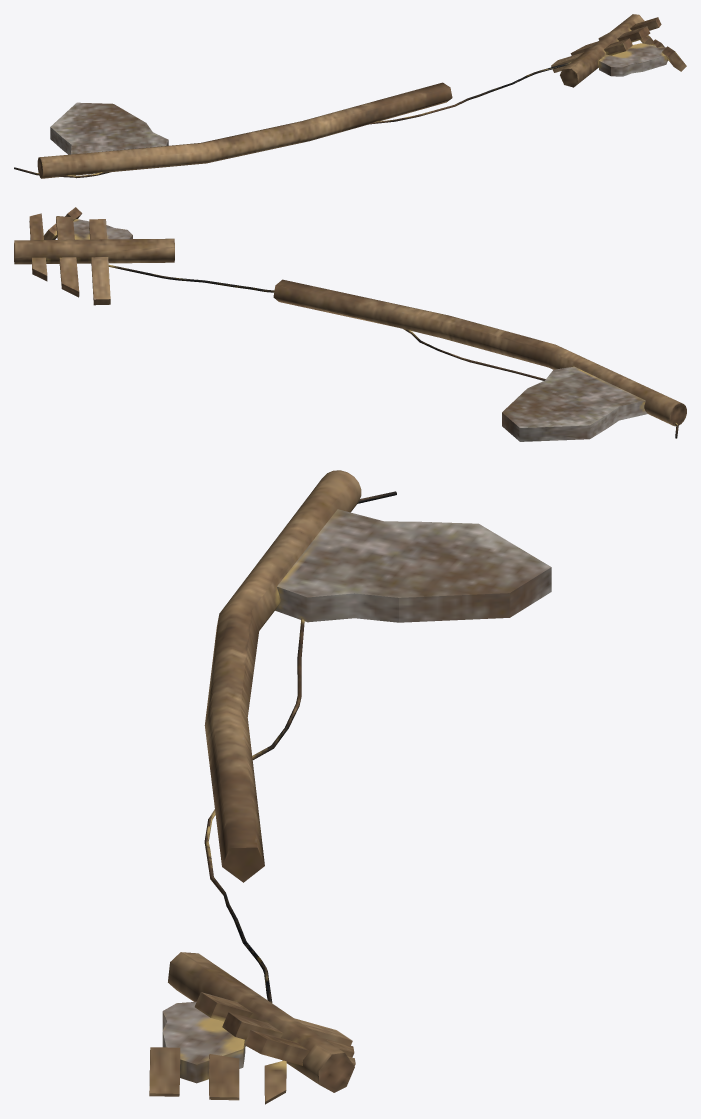
Rendered from PosteLuz.obj.
3 views of the same model, one above another, from view 1: azimuth 30°, elevation 25°; view 2: azimuth 150°, elevation 25°; view 3: azimuth 270°, elevation 25° (orthographic). The views are drawn at different scales.
Parts seen in each view (by area): view 1: Object004, Box153, Cylinder001, Box152, Line003, Object015; view 2: Object004, Box153, Cylinder001, Line003, Box152; view 3: Box153, Object004, Cylinder001, Box152, Object015, Line003.
Boxes of the visible parts, bbox=[...] form: Object004: bbox=[37, 82, 452, 178]; Box153: bbox=[50, 102, 168, 175]; Cylinder001: bbox=[551, 14, 661, 87]; Box152: bbox=[599, 43, 667, 76]; Line003: bbox=[14, 61, 571, 178]; Object015: bbox=[640, 35, 686, 71]; Object004: bbox=[273, 279, 686, 426]; Box153: bbox=[502, 366, 647, 441]; Cylinder001: bbox=[14, 213, 174, 305]; Line003: bbox=[108, 264, 678, 438]; Box152: bbox=[73, 219, 132, 239]; Box153: bbox=[275, 509, 551, 622]; Object004: bbox=[204, 470, 361, 882]; Cylinder001: bbox=[168, 952, 355, 1092]; Box152: bbox=[162, 1001, 245, 1083]; Object015: bbox=[149, 1047, 286, 1104]; Line003: bbox=[204, 491, 396, 1002].
Size of the model in its own units: 209 by 15.51 by 59.41.
1 material, 1 textured.
